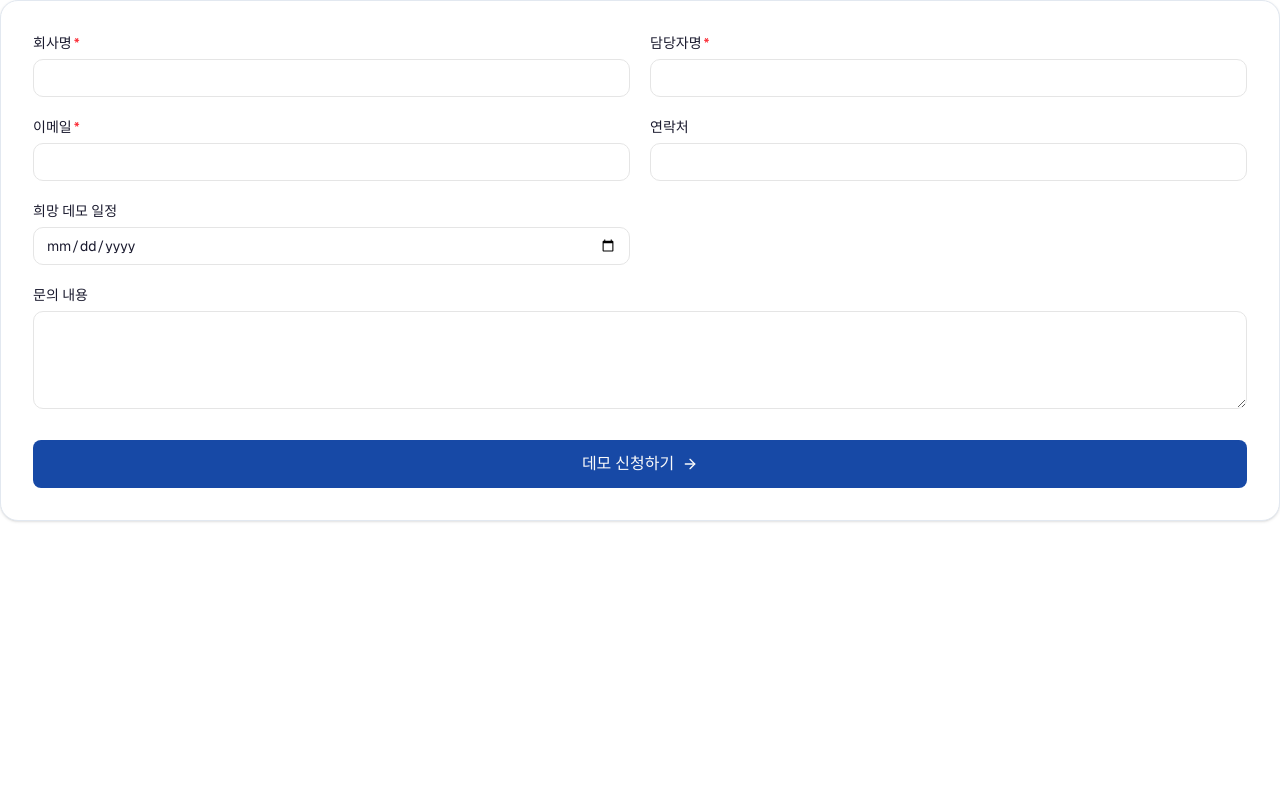
Test: DemoForm › shows an error message when the send fails
Step 1. Type "에이아이툴즈" into the field labelled "회사명*" → {"x": 332, "y": 78}, box left=33, top=59, right=630, bottom=97
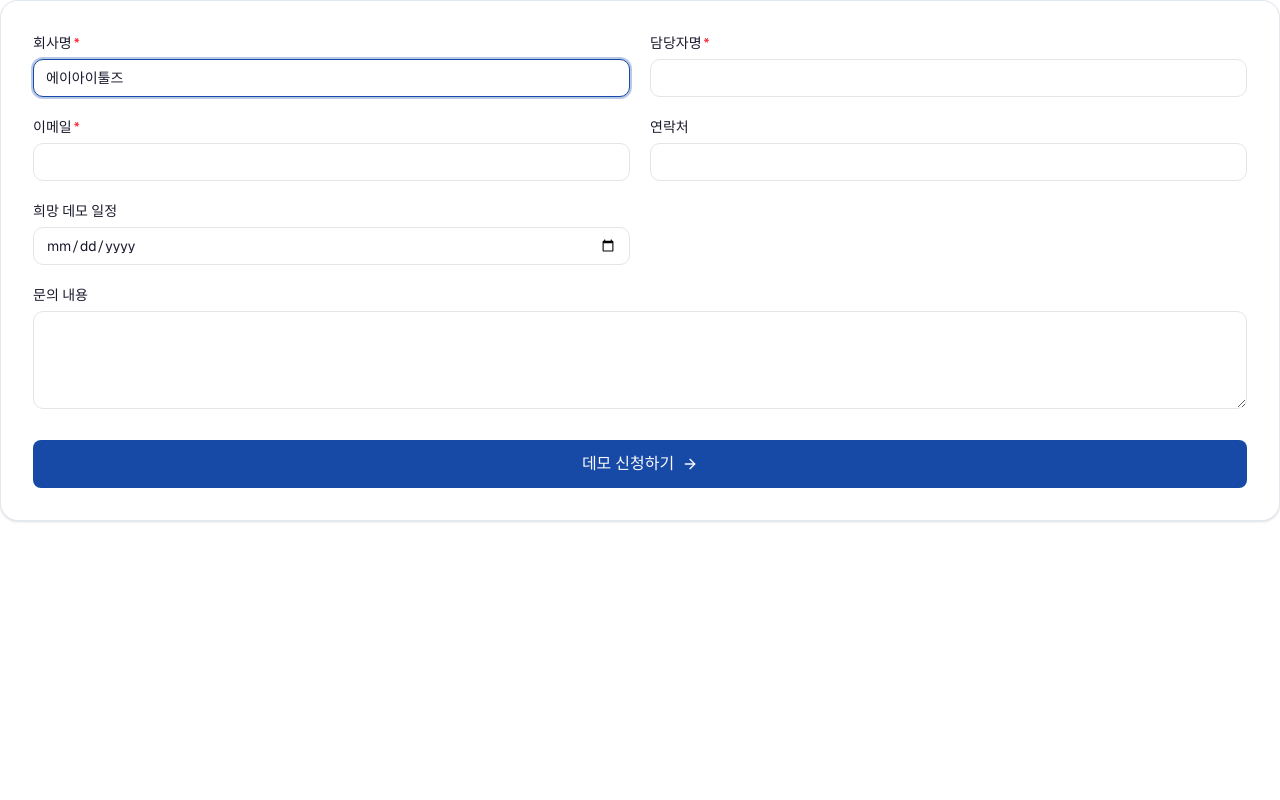
Step 2. Type "서동구" into the field labelled "담당자명*" → {"x": 948, "y": 78}, box left=650, top=59, right=1247, bottom=97
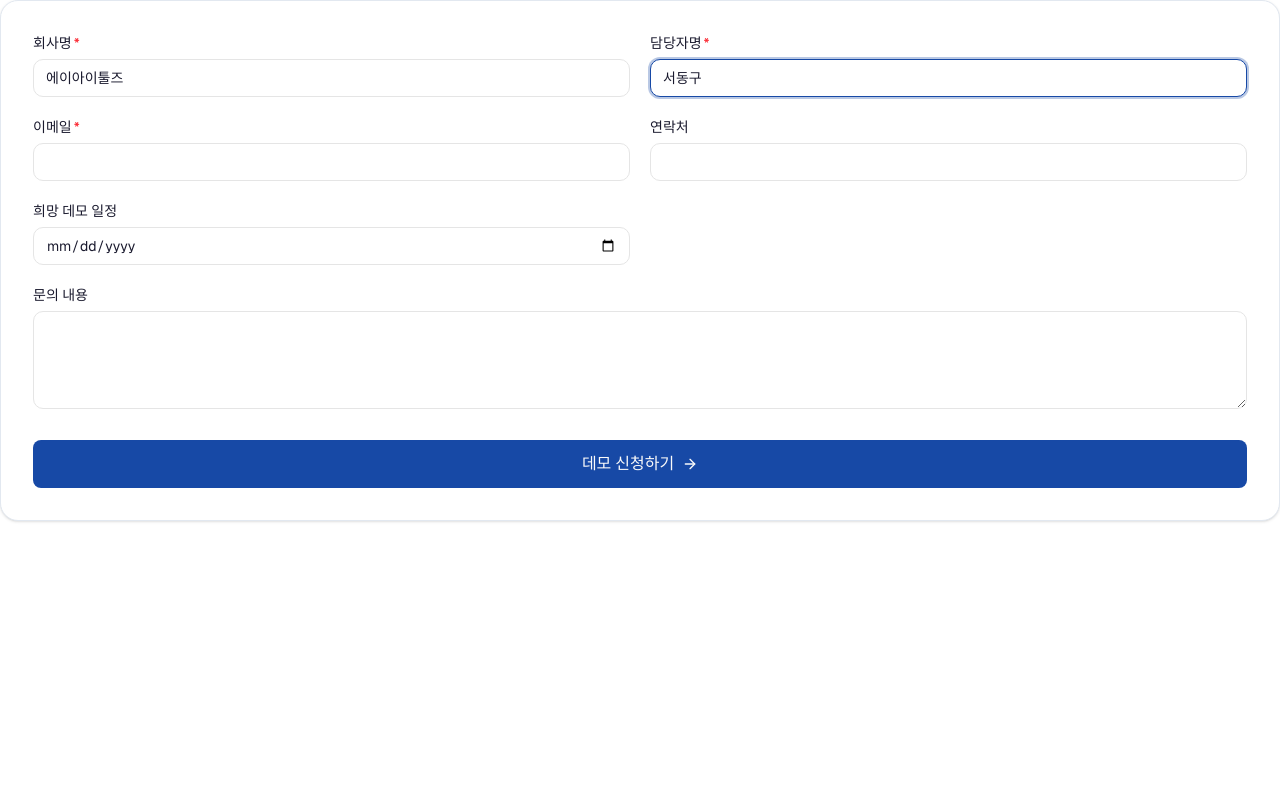
Step 3. Type "a@b.com" into the field labelled "이메일*" → {"x": 332, "y": 162}, box left=33, top=143, right=630, bottom=181
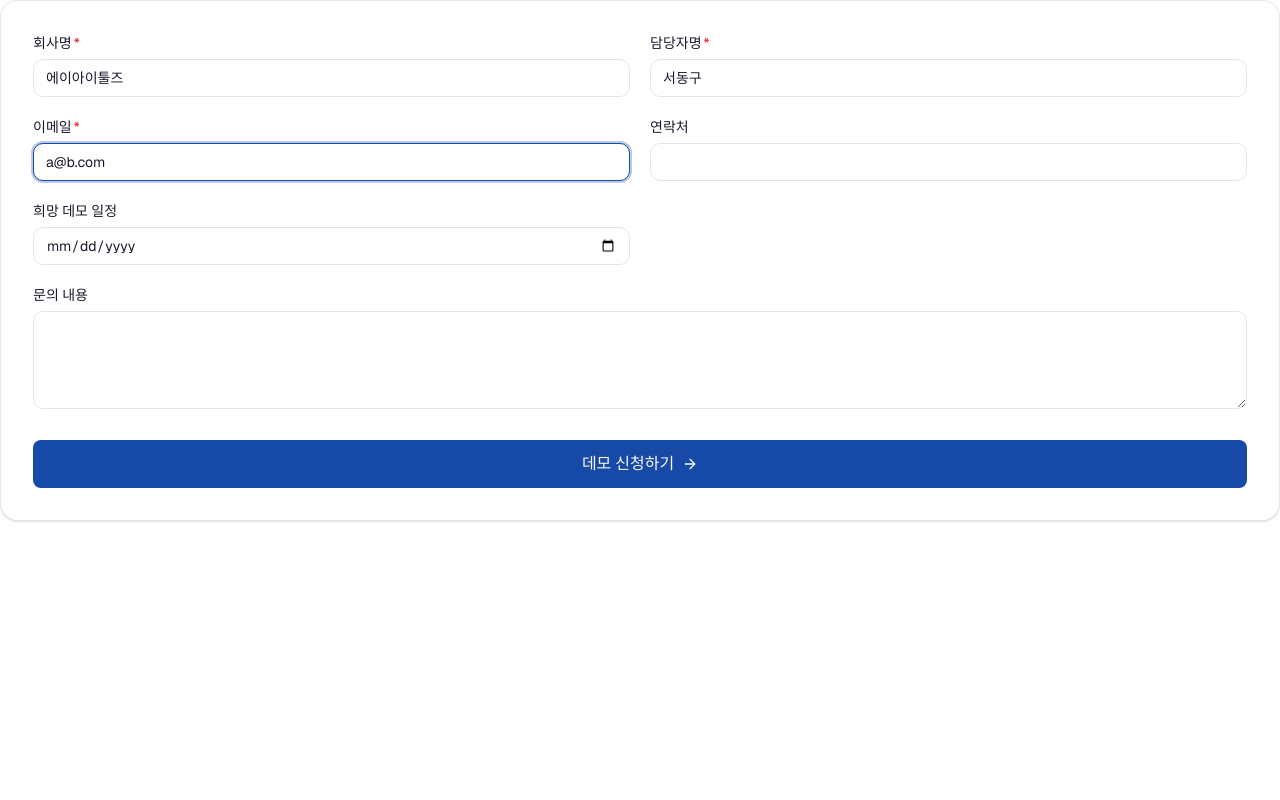
Step 4. Click the button "데모 신청하기" → {"x": 640, "y": 464}, box left=33, top=440, right=1247, bottom=488
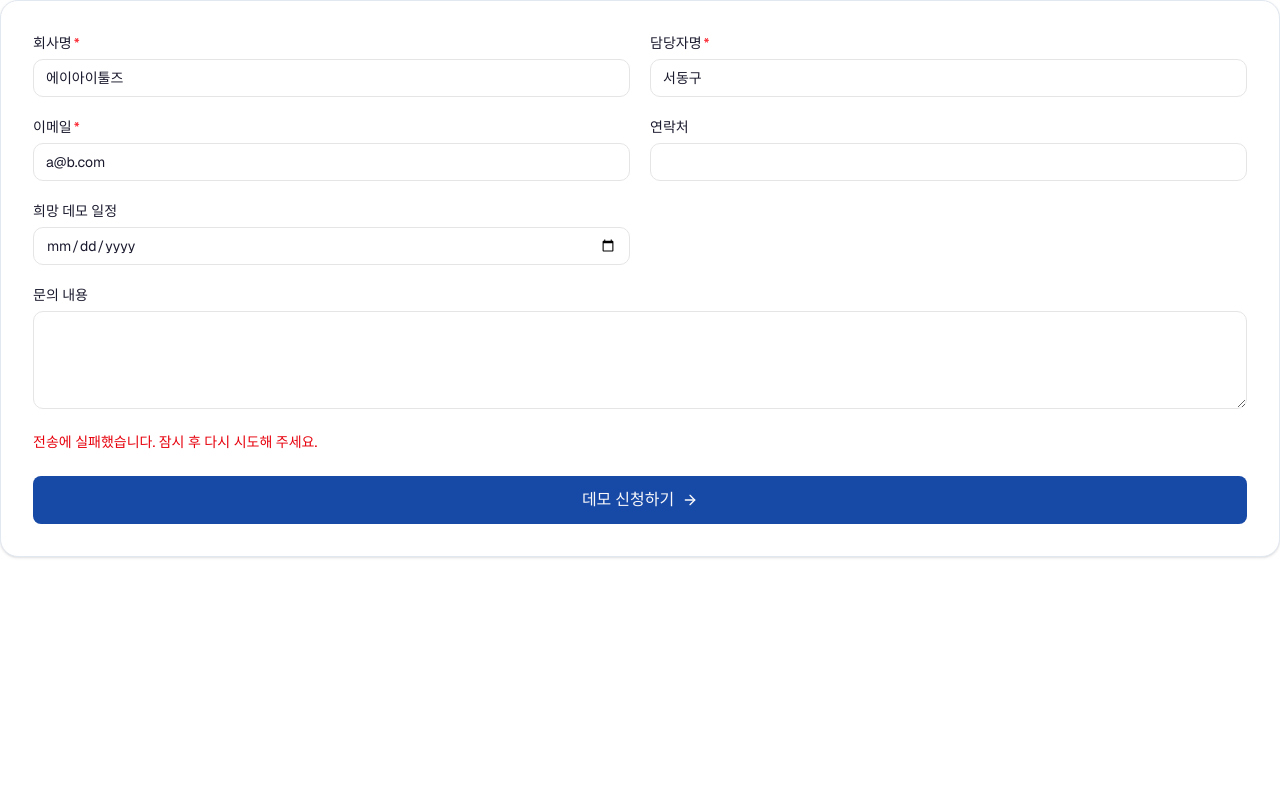
Expected: the message shows "전송에 실패", left=33, top=433, right=317, bottom=451
